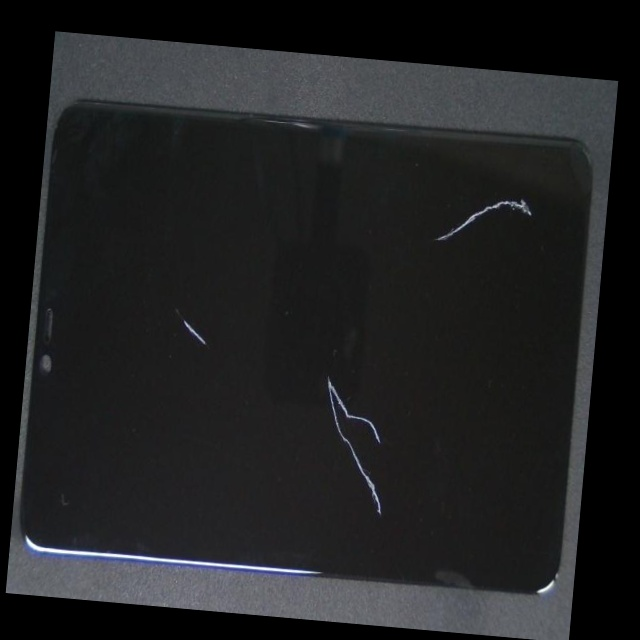scratch: (235, 298, 564, 623), (85, 126, 266, 447), (338, 78, 616, 261)
